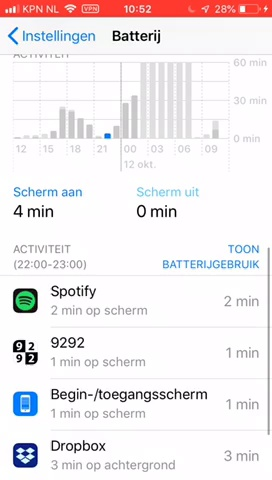activity: (4, 240, 92, 272)
app: (11, 282, 264, 321), (11, 333, 264, 372), (9, 384, 262, 423), (10, 436, 263, 475)
